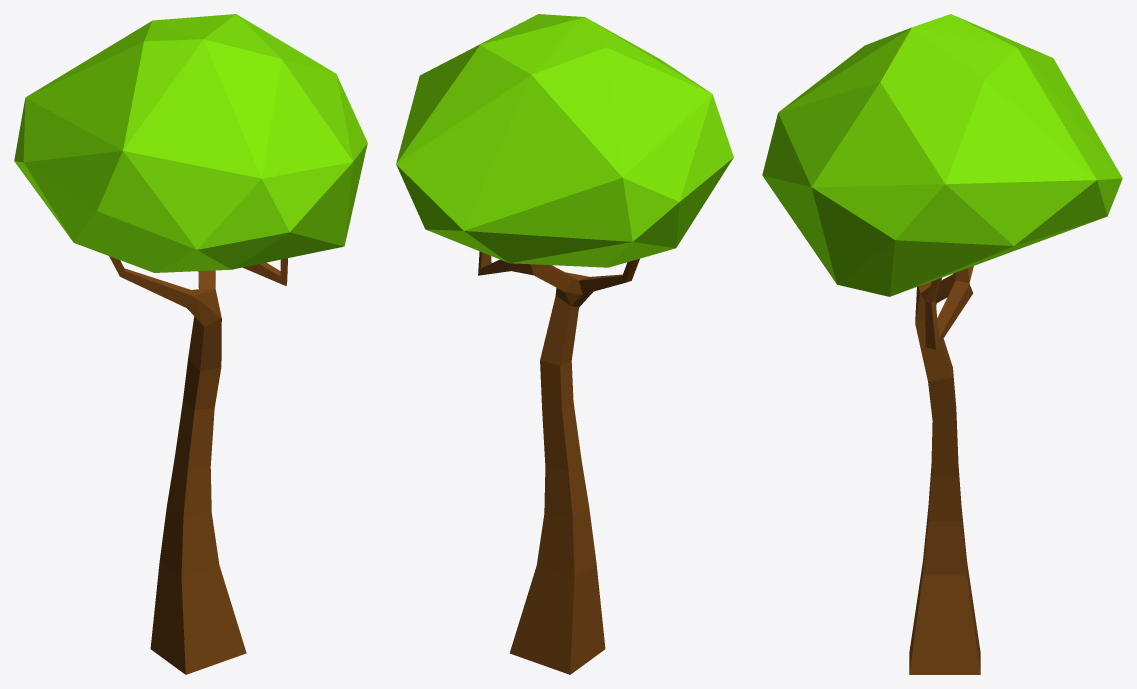
Rendered from PolyTree.fbx.
3 renders of one model, left to right at view 1: azimuth 30°, elevation 25°; view 2: azimuth 150°, elevation 25°; view 3: azimuth 270°, elevation 25°, orthographic.
Parts seen in each view (by area): view 1: Plane; view 2: Plane; view 3: Plane.
Boxes of the visible parts, x1,y1,x2,y2 form: Plane: (14,14,367,674); Plane: (396,14,733,674); Plane: (762,14,1122,674).
Bounding box in the file's own units: 242 × 496 × 256.
